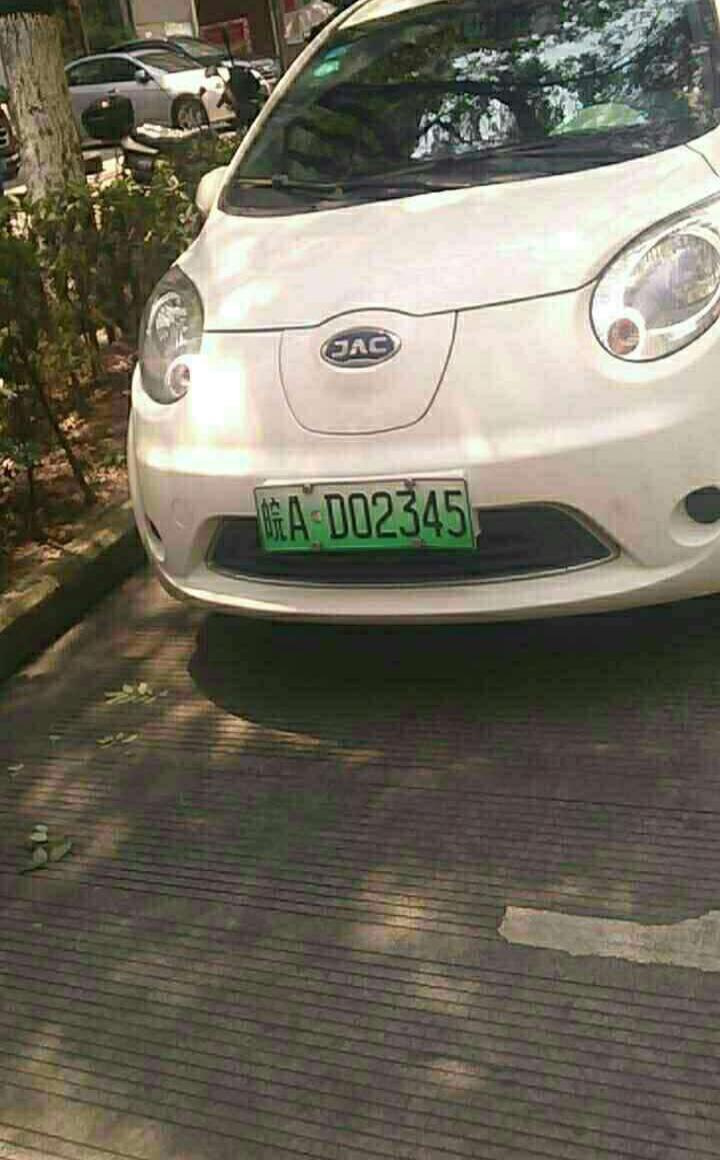car_id: (255, 480, 475, 552)
